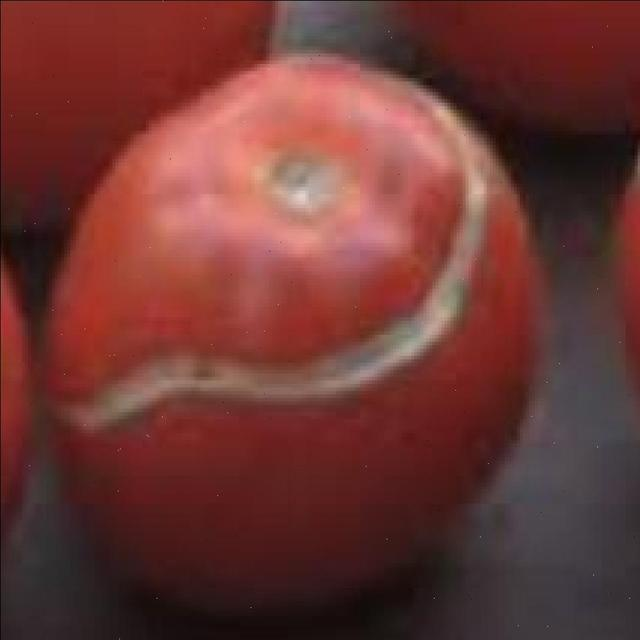Cracking Fruit: (40, 31, 335, 302)
